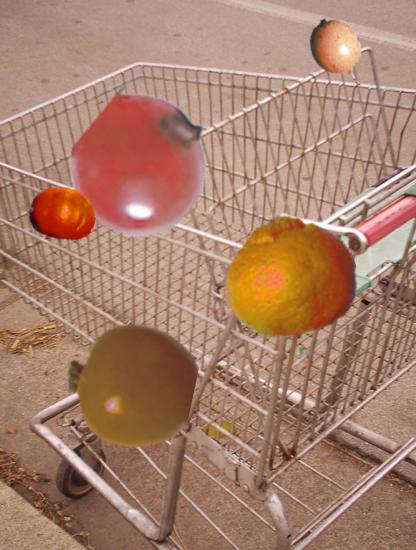Clementine: (26, 178, 97, 249)
Granadilla: (301, 16, 377, 92)
Mandarine: (221, 209, 356, 344)
Passion: (278, 231, 357, 310)
Physalis: (61, 318, 195, 452)
Redcurrant: (70, 94, 215, 239)
